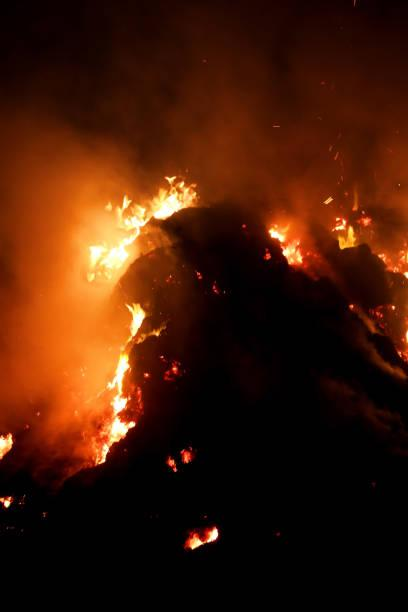Fire: (118, 170, 198, 222), (74, 246, 140, 283)
